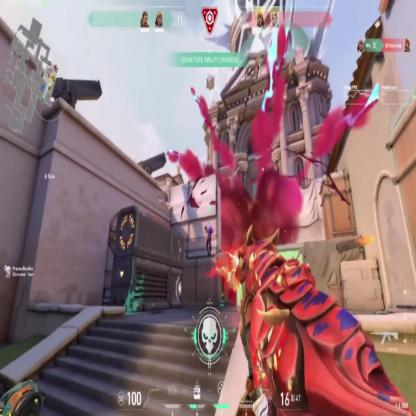enemy: (204, 220, 214, 258)
enemy_head: (207, 221, 210, 228)
